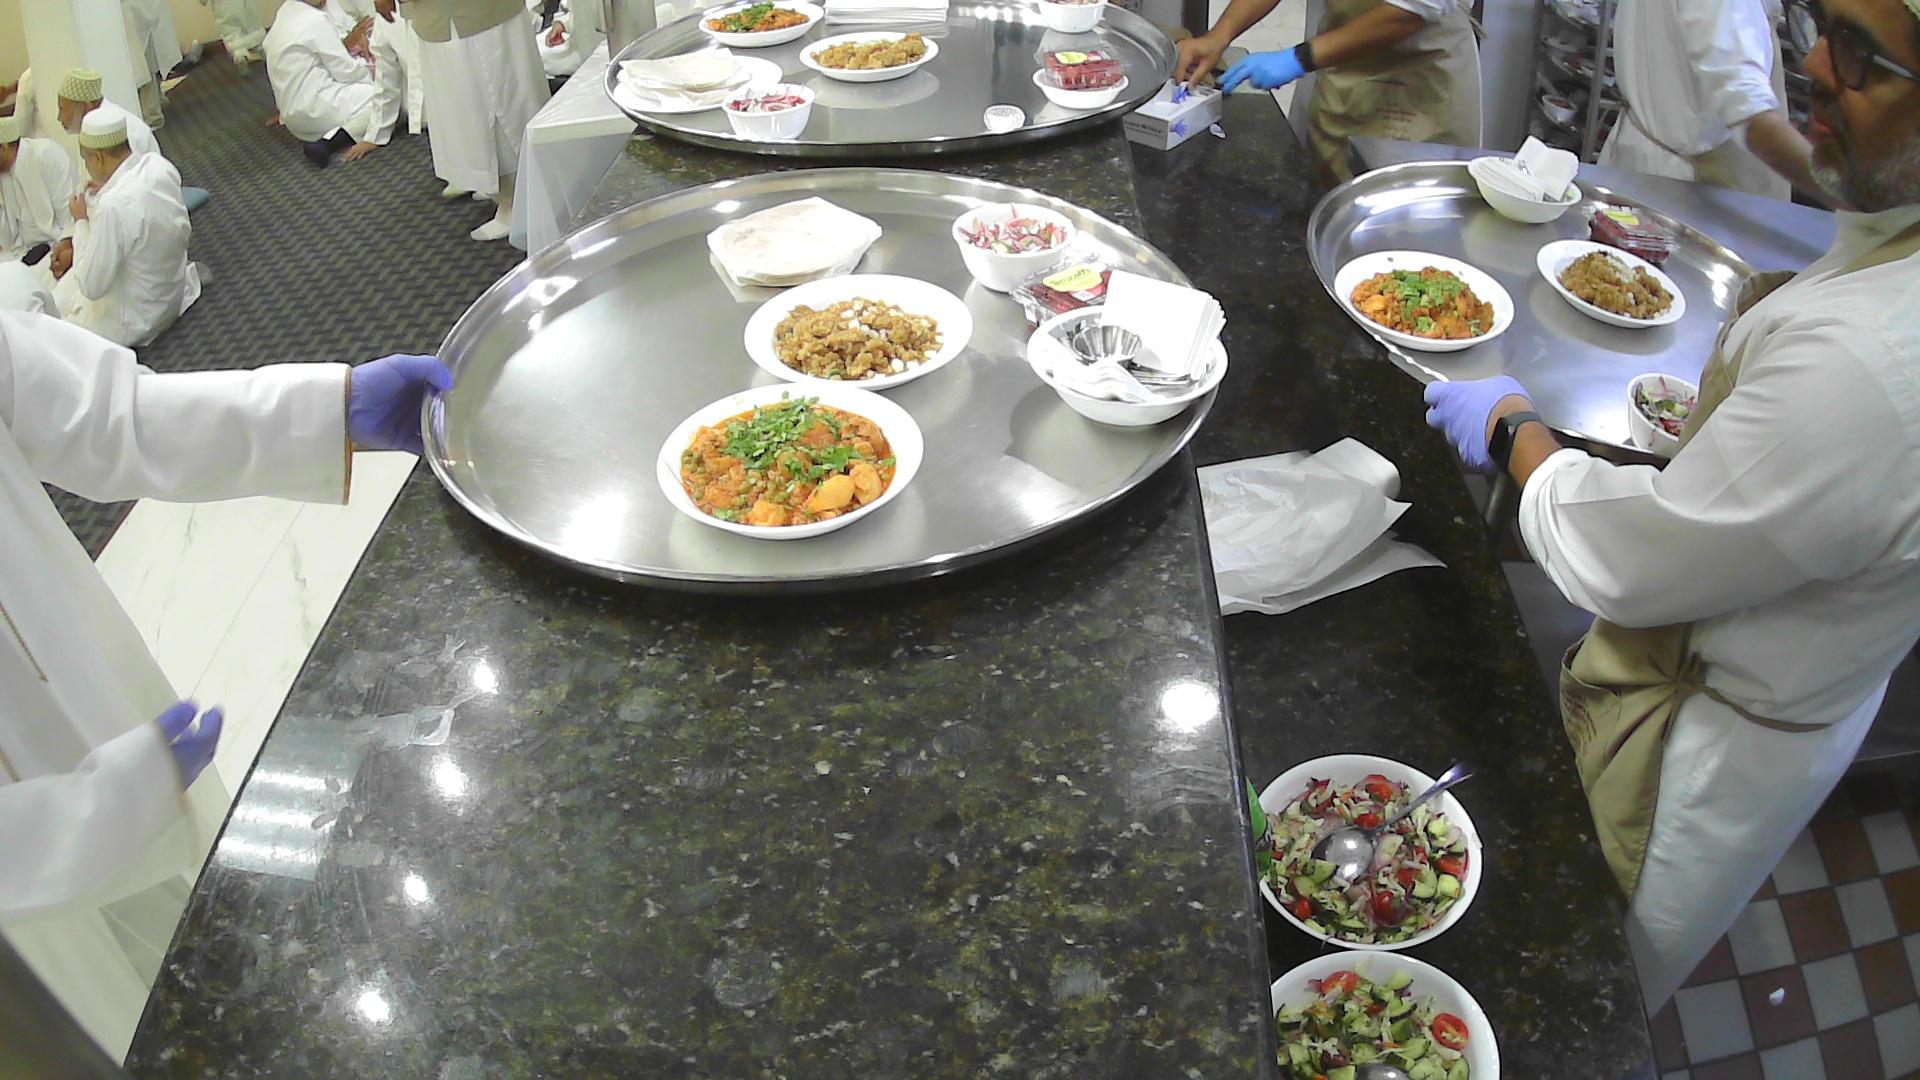thaal: (418, 164, 1225, 600), (1304, 158, 1764, 475), (603, 0, 1179, 166)
